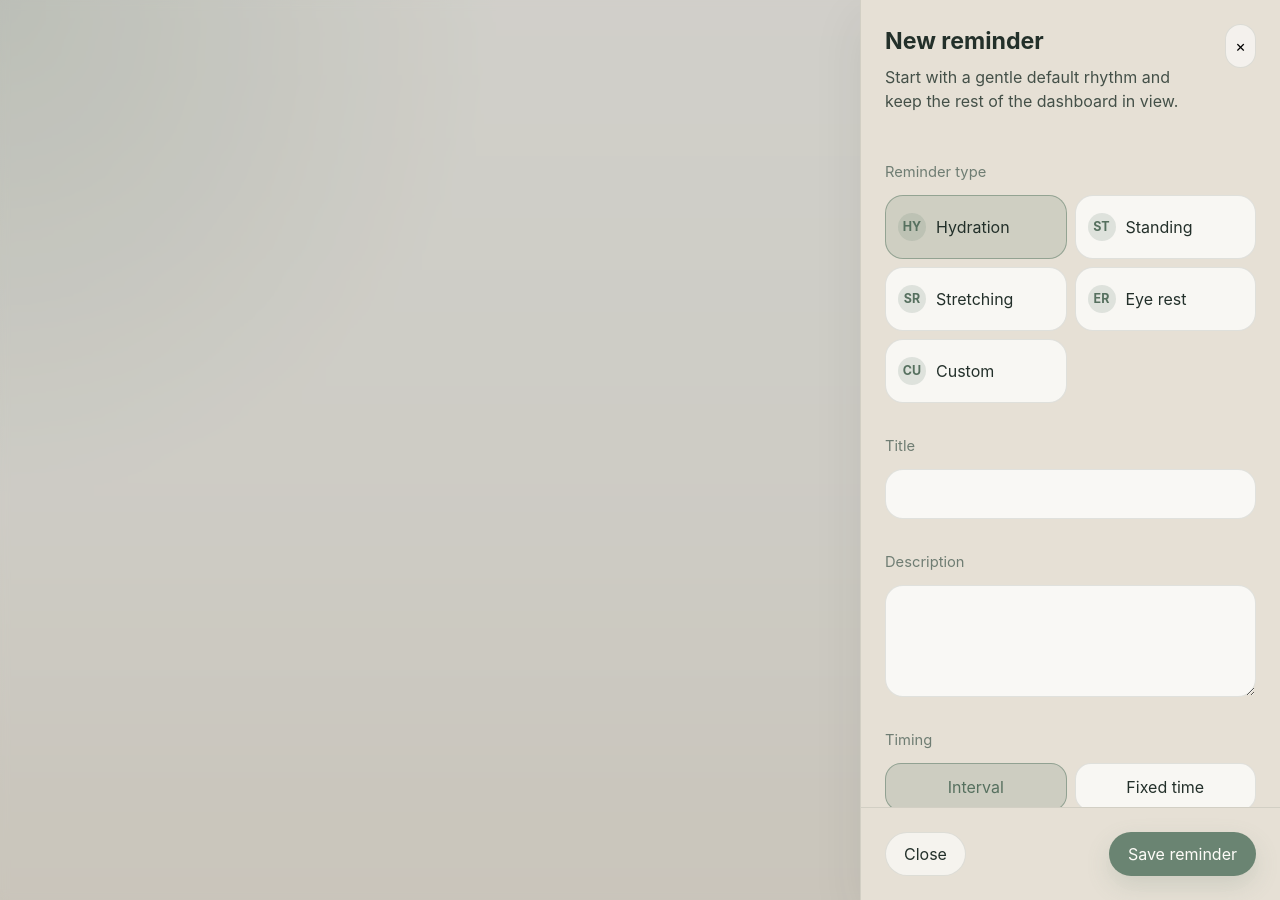
it: ReminderDrawer › shows the unsaved-change prompt
Click the button "ST Standing": (1165, 227) [1074,195,1256,259]
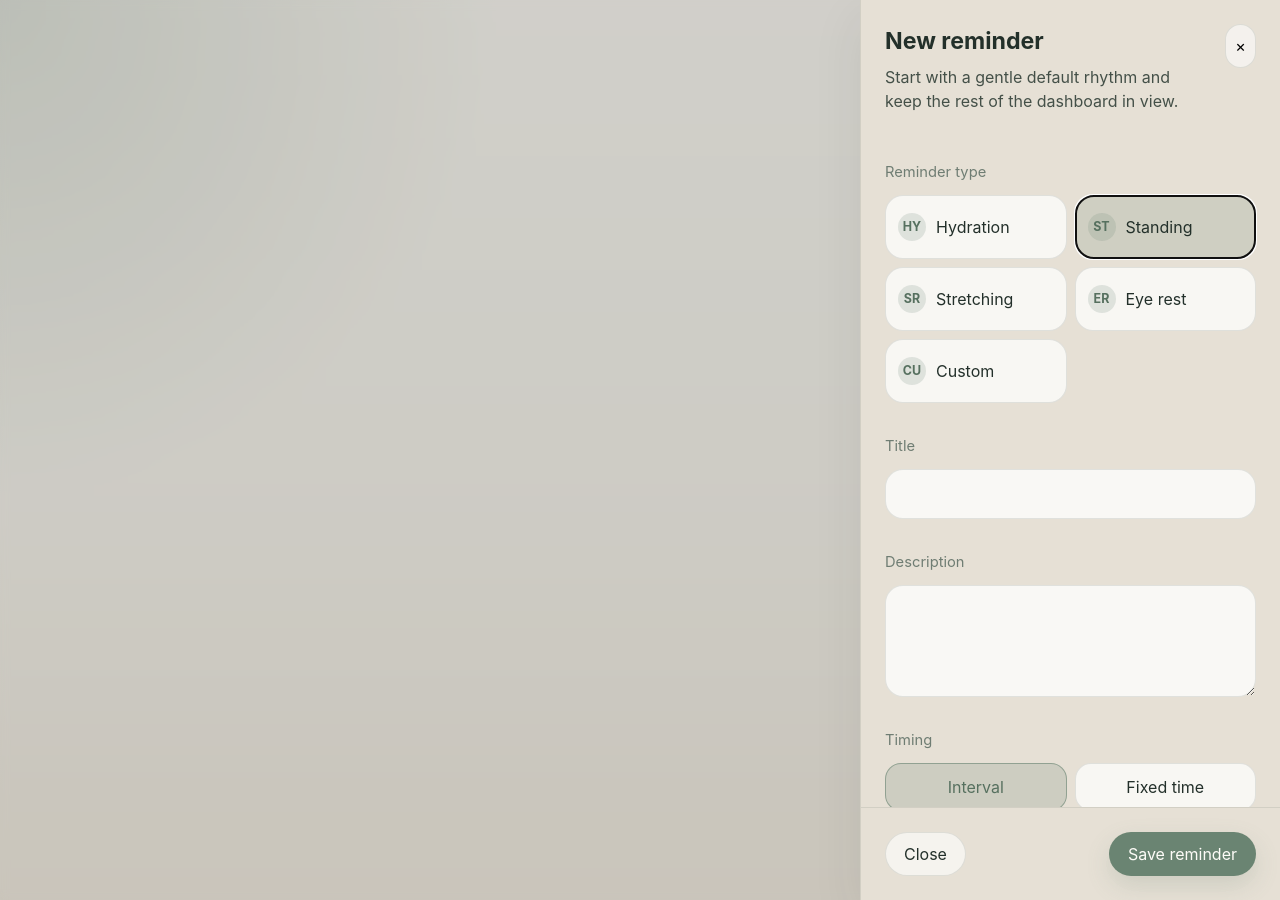
In the field labelled "Title": (1070, 494) [885,469,1256,519], type "Stand up"
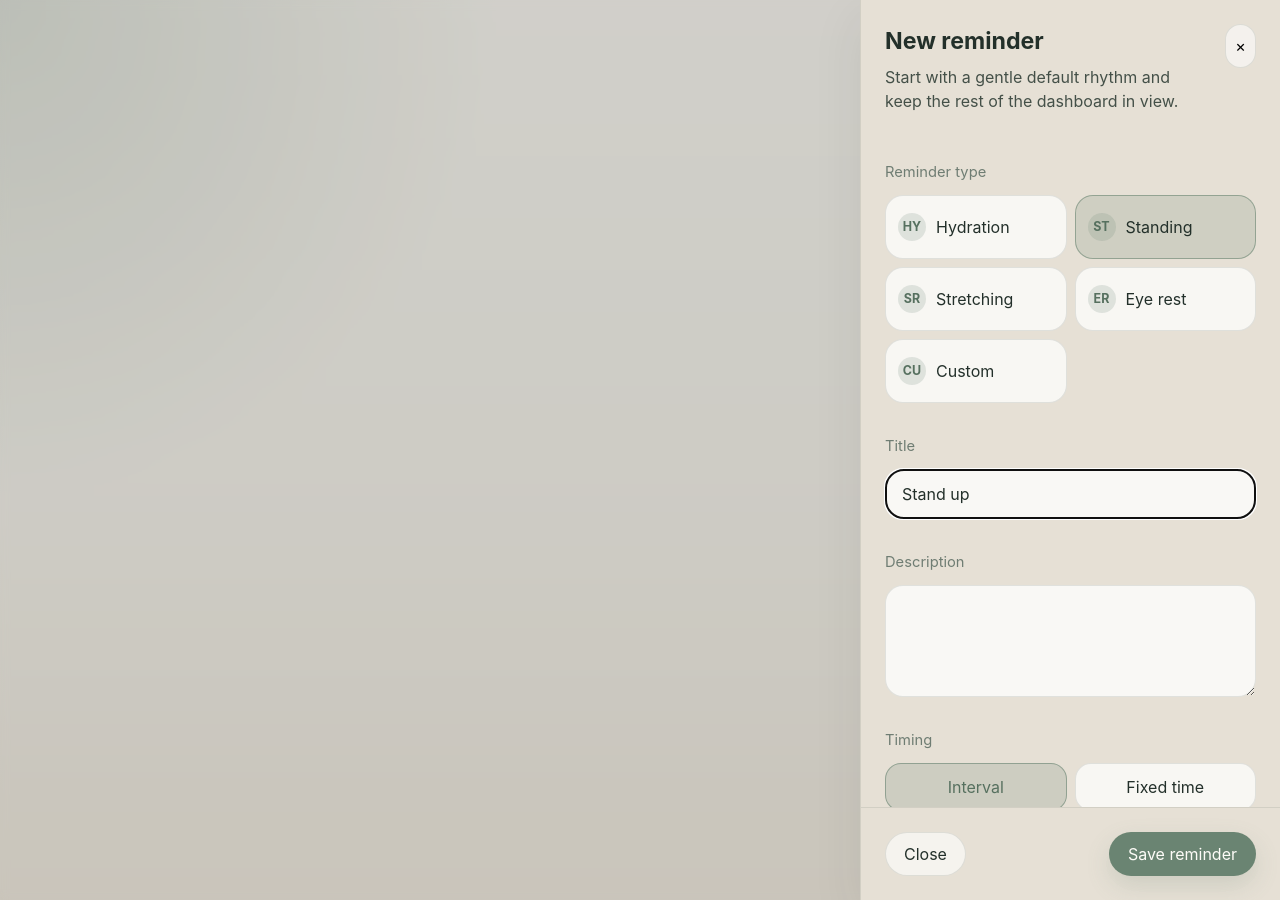
Click the button named "Close drawer": (1241, 46) [1225,24,1256,68]
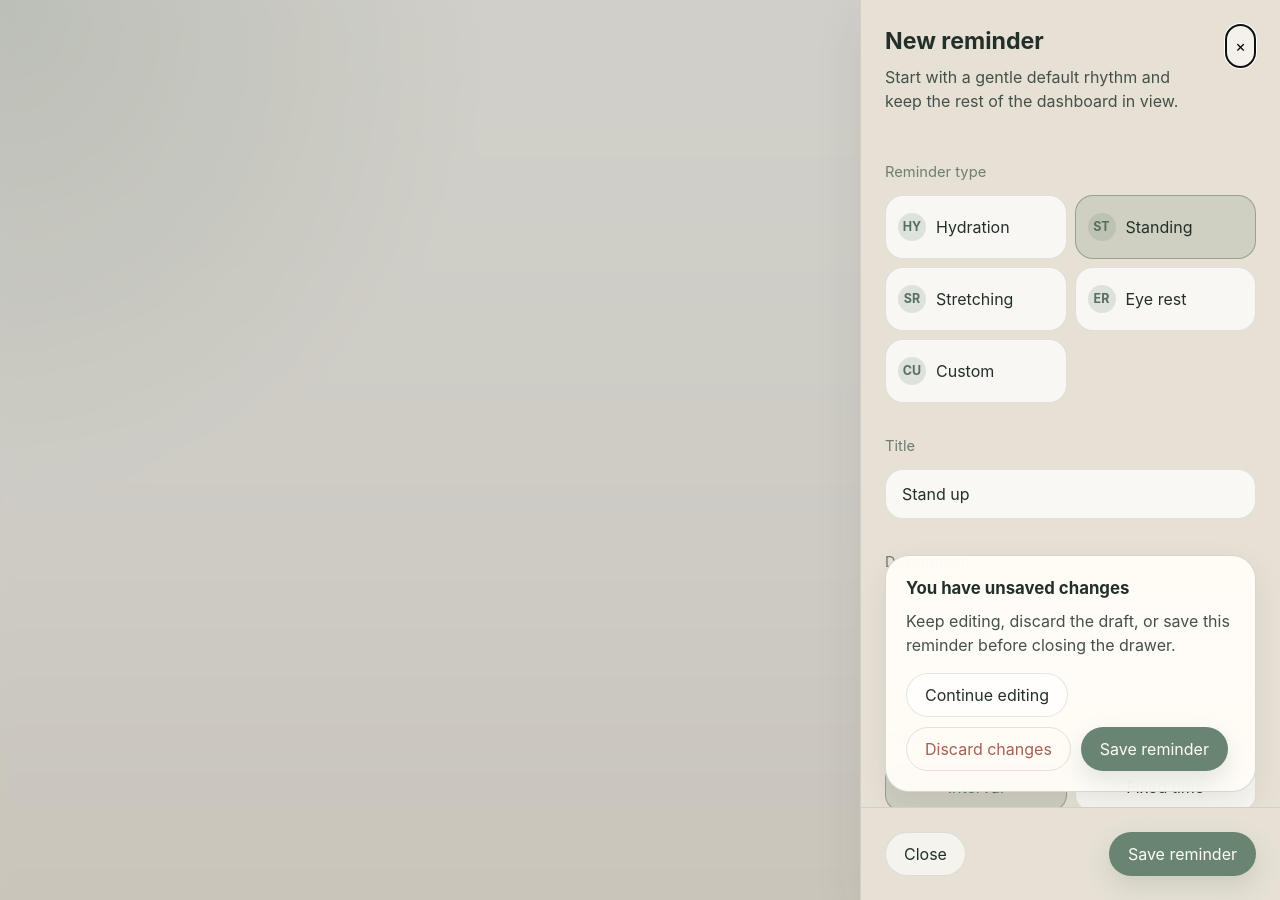
Result: the dialog named "Unsaved changes prompt" is shown at [885,555,1256,792]
Result: the button "Continue editing" is shown at [906,673,1068,717]
Result: the button "Discard changes" is shown at [906,727,1071,771]
